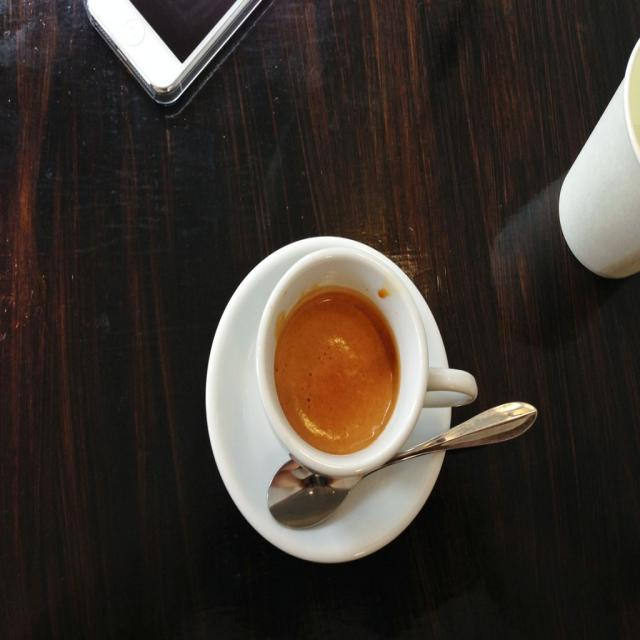Coffee: (271, 284, 398, 455)
Tea: (276, 292, 401, 456)
